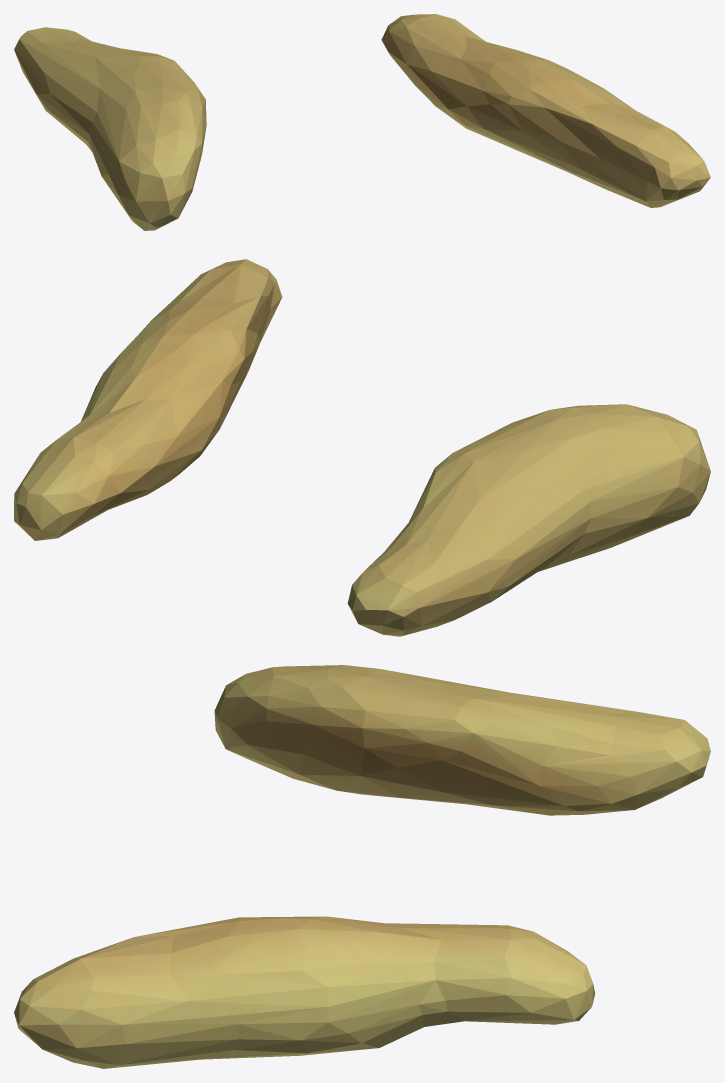
Rendered from nodes_lymph_medial_iliac_LP.glb.
3 views of the same model, one above another, from view 1: azimuth 30°, elevation 25°; view 2: azimuth 150°, elevation 25°; view 3: azimuth 270°, elevation 25° (orthographic). The views are drawn at different scales.
Visible parts, largest first — view 1: nodes_lymph_medial_iliac_LP; view 2: nodes_lymph_medial_iliac_LP; view 3: nodes_lymph_medial_iliac_LP.
Boxes of the visible parts, x1,y1,x2,y2 form: nodes_lymph_medial_iliac_LP: [14, 14, 710, 230]; nodes_lymph_medial_iliac_LP: [14, 259, 710, 636]; nodes_lymph_medial_iliac_LP: [14, 665, 710, 1068].
Size of the model in its own units: 0.001 by 0.000254 by 0.001.
Materials: 1 (1 with a texture image).
